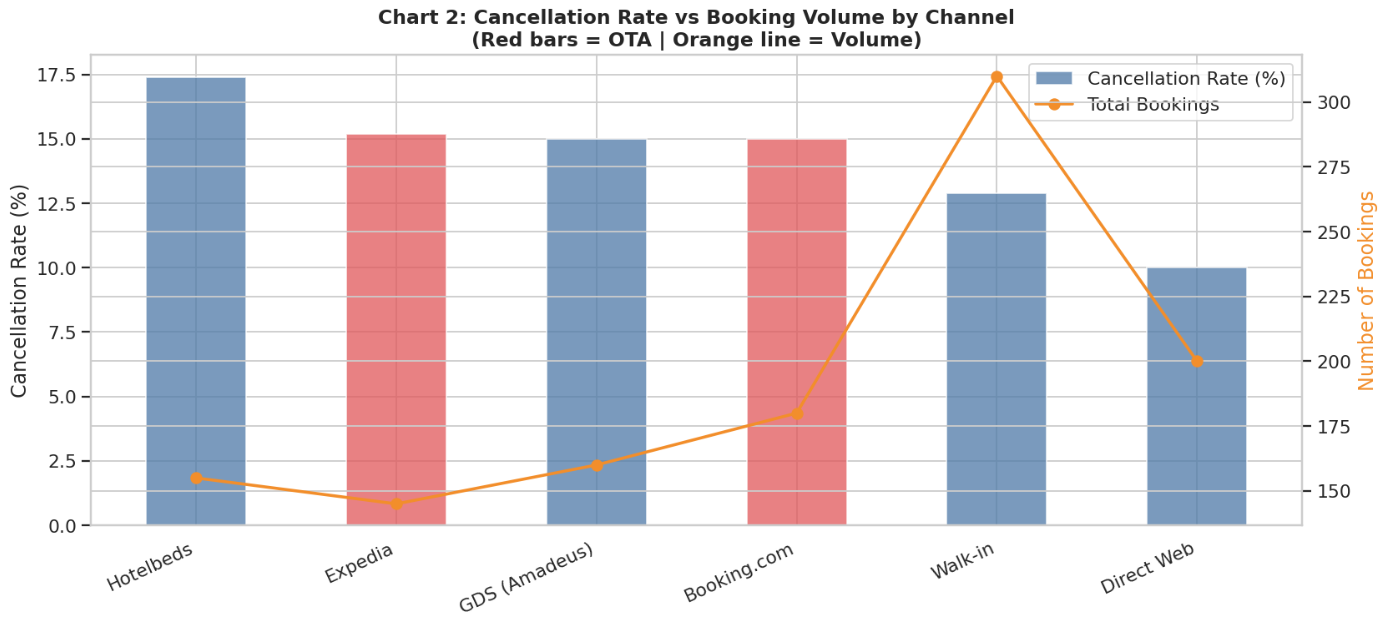

What the dashboard file says about the page in this screenshot:
{"tool":"powerbi","page":{"name":"Page 2","canvas":[1280,720],"ordinal":1},"visuals":[{"type":"lineStackedColumnComboChart","fields":{"Category":["dim_channels (1).channel_name"],"Y":["fact_bookings (1).Cancel Rate"],"Y2":["fact_bookings (1).Total Bookings"]},"box":[91.7,59.4,1103.7,614.7],"z":0}]}

Visuals, with their boxes on the page's 1280x720 design canvas (x1, y1, x2, y2). These are canvas units, not pixel positions in the 1388x626 screenshot, which may show the page scaled, cropped or inside an application window:
lineStackedColumnComboChart - dim_channels (1).channel_name x fact_bookings (1).Cancel Rate: <region>92, 59, 1195, 674</region>
